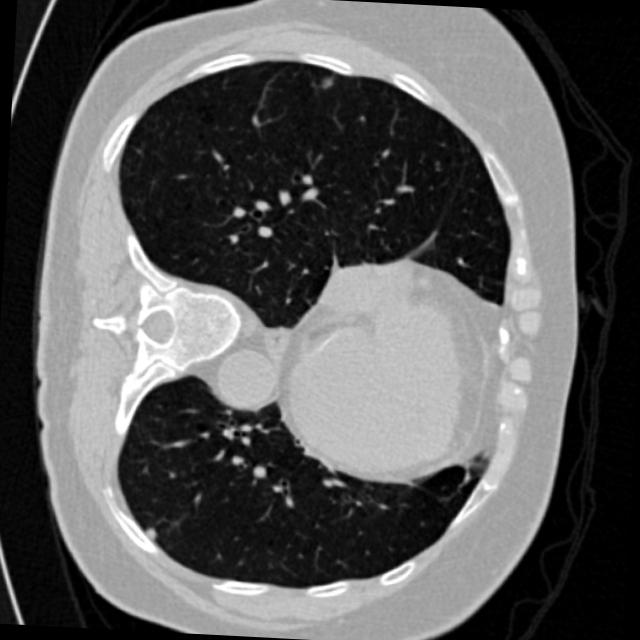nodule: (138, 518, 167, 547)
